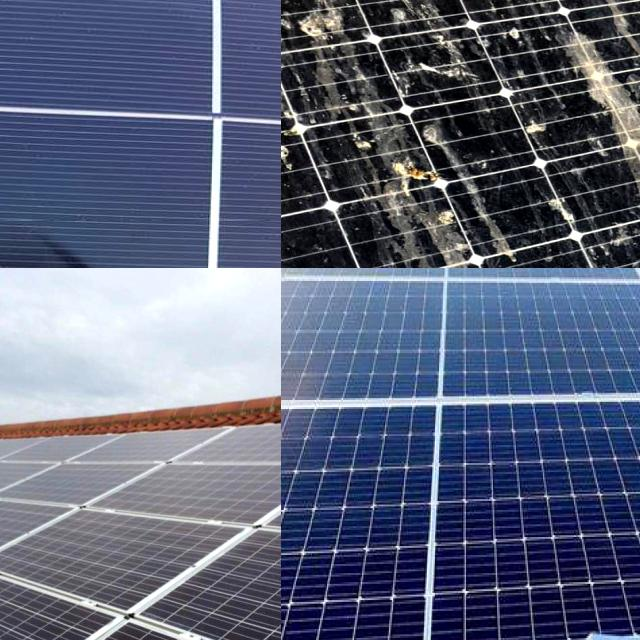bird: (486, 0, 626, 145), (328, 102, 420, 257), (500, 191, 635, 268), (281, 71, 332, 259), (420, 189, 496, 268), (281, 0, 365, 57), (520, 0, 640, 32)
crack: (424, 387, 640, 640), (281, 268, 492, 445), (0, 478, 252, 624), (0, 522, 281, 640), (431, 276, 640, 417), (132, 481, 281, 640), (93, 433, 281, 539), (0, 523, 169, 640), (0, 483, 103, 583)
shadow: (0, 90, 86, 231)
